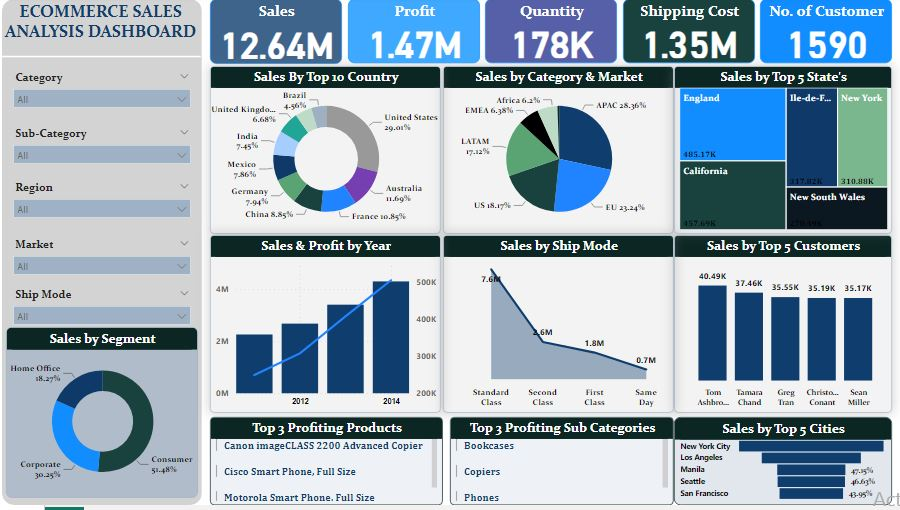

Layout of this report page (visuals, bound fields, positions):
{"tool":"powerbi","page":{"name":"Page 1","canvas":[1280,720],"ordinal":0},"visuals":[{"type":"columnChart","title":"Sales by Top 5 Customers","fields":{"Y":["Orders.Sales"],"Category":["Orders.Customer Name"]},"box":[955.3,337.3,309,252.3],"z":0},{"type":"pieChart","title":"Sales by Category & Market ","fields":{"Category":["Orders.Category","Orders.Market"],"Y":["Orders.Sales"]},"box":[627.9,97.8,327.4,238.1],"z":1000},{"type":"areaChart","title":"Sales by Ship Mode","fields":{"Category":["Orders.Ship Mode"],"Y":["Orders.Sales"]},"box":[627.9,337.3,327.4,252.3],"z":2000},{"type":"card","title":"Sales","fields":{"Values":["Orders.Sales"]},"box":[297.6,2.8,187.1,92.1],"z":3000},{"type":"donutChart","title":"Sales By Top 10 Country","fields":{"Category":["Orders.Country"],"Y":["Orders.Sales"]},"box":[297.6,97.8,327.4,238.1],"z":4000},{"type":"treemap","title":"Sales by Top 5 State''s","fields":{"Group":["Orders.State"],"Values":["Orders.Sales"]},"box":[955.3,97.8,309,238.1],"z":5000},{"type":"shape","box":[2.8,2.8,283.5,717.2],"z":6000},{"type":"textbox","box":[0,0,284.9,93.5],"z":7000},{"type":"shape","box":[1.4,75.1,283.5,18.4],"z":8000},{"type":"slicer","fields":{"Values":["Orders.Category"]},"box":[8.5,99.2,272.1,79.4],"z":9000},{"type":"slicer","fields":{"Values":["Orders.Sub-Category"]},"box":[8.5,178.6,272.1,68],"z":10000},{"type":"slicer","fields":{"Values":["Orders.Region"]},"box":[8.5,255.1,272.1,68],"z":11000},{"type":"slicer","fields":{"Values":["Orders.Market"]},"box":[8.5,335.9,272.1,68],"z":12000},{"type":"slicer","fields":{"Values":["Orders.Ship Mode"]},"box":[8.5,406.8,272.1,68],"z":13000},{"type":"card","title":"Profit","fields":{"Values":["Orders.Profit"]},"box":[492.5,2.8,187.1,90.7],"z":14000},{"type":"card","title":"Quantity","fields":{"Values":["Orders.Quantity"]},"box":[687.4,2.8,187.1,90.7],"z":15000},{"type":"card","title":"Shipping Cost","fields":{"Values":["Orders.Shipping Cost"]},"box":[882.3,2.8,187.1,90.7],"z":16000},{"type":"card","title":"No. of Customer","fields":{"Values":["Orders.Customer ID"]},"box":[1077.2,2.8,187.1,90.7],"z":17000},{"type":"donutChart","fields":{"Y":["Orders.Sales"],"Series":["Orders.Segment"]},"box":[8.5,467.7,272.1,242.4],"z":18000},{"type":"lineClusteredColumnComboChart","title":"Sales & Profit by Year","fields":{"Y":["Orders.Sales"],"Y2":["Orders.Profit"],"Category":["Orders.Year"]},"box":[297.6,337.3,327.4,252.3],"z":19000},{"type":"multiRowCard","title":"Top 3 Profiting Products","fields":{"Values":["Orders.Product Name"]},"box":[297.6,595.3,330.2,124.7],"z":20000},{"type":"multiRowCard","title":"Top 3 Profiting Sub Categories","fields":{"Values":["Orders.Sub-Category"]},"box":[637.8,595.3,317.5,124.7],"z":21000},{"type":"funnel","title":"Sales by Top 5 Cities","fields":{"Category":["Orders.City"],"Y":["Orders.Sales"]},"box":[955.3,595.3,309,124.7],"z":22000}]}

Visuals, with their boxes in screenshot pixels (x1, y1, x2, y2), scaled from the page's 1280x720 canvas onto the 900x510 screenshot:
"Sales by Top 5 Customers" columnChart: x1=672 y1=239 x2=889 y2=418
"Sales by Category & Market " pieChart: x1=441 y1=69 x2=672 y2=238
"Sales by Ship Mode" areaChart: x1=441 y1=239 x2=672 y2=418
"Sales" card: x1=209 y1=2 x2=341 y2=67
"Sales By Top 10 Country" donutChart: x1=209 y1=69 x2=439 y2=238
"Sales by Top 5 State''s" treemap: x1=672 y1=69 x2=889 y2=238
shape: x1=2 y1=2 x2=201 y2=509
textbox: x1=0 y1=0 x2=200 y2=66
shape: x1=1 y1=53 x2=200 y2=66
slicer - Orders.Category: x1=6 y1=70 x2=197 y2=127
slicer - Orders.Sub-Category: x1=6 y1=127 x2=197 y2=175
slicer - Orders.Region: x1=6 y1=181 x2=197 y2=229
slicer - Orders.Market: x1=6 y1=238 x2=197 y2=286
slicer - Orders.Ship Mode: x1=6 y1=288 x2=197 y2=336
"Profit" card: x1=346 y1=2 x2=478 y2=66
"Quantity" card: x1=483 y1=2 x2=615 y2=66
"Shipping Cost" card: x1=620 y1=2 x2=752 y2=66
"No. of Customer" card: x1=757 y1=2 x2=889 y2=66
donutChart - Orders.Sales x Orders.Segment: x1=6 y1=331 x2=197 y2=503
"Sales & Profit by Year" lineClusteredColumnComboChart: x1=209 y1=239 x2=439 y2=418
"Top 3 Profiting Products" multiRowCard: x1=209 y1=422 x2=441 y2=509
"Top 3 Profiting Sub Categories" multiRowCard: x1=448 y1=422 x2=672 y2=509
"Sales by Top 5 Cities" funnel: x1=672 y1=422 x2=889 y2=509
